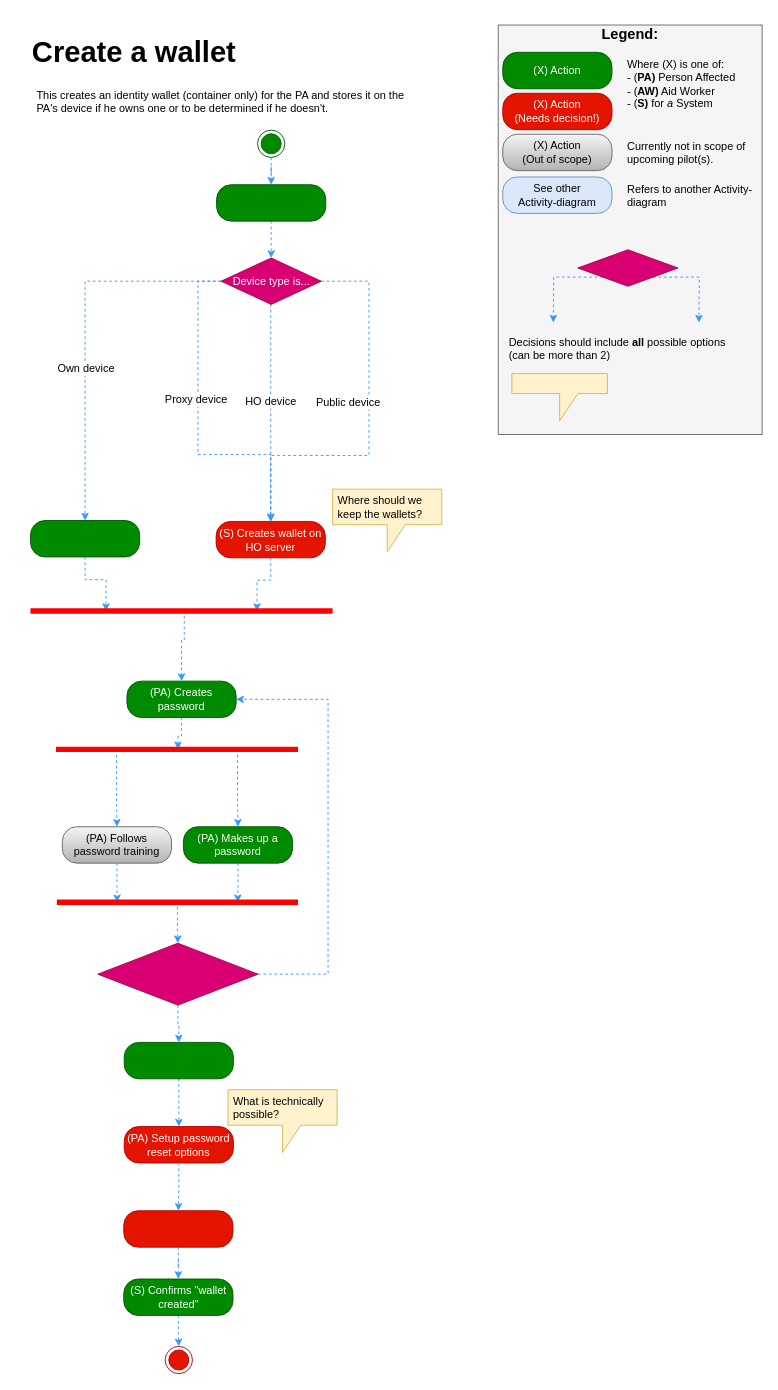
Some shapes in this 778 by 1390 pixel diagram are drawn without their labels. The shapes that lost their labels are listed below. From the top down, each one's box as (x1, y1, x2, y2) in pixels, then its label:
(216, 184, 326, 221): (S) Provide explanation of use
(577, 249, 678, 286): (X) Decision
(511, 373, 607, 421): Explanation
(30, 520, 140, 557): (S) Creates Wallet on device
(97, 942, 258, 1005): (PA) Confirms password/implications
(123, 1041, 233, 1079): (S) Encrypts Wallet with password
(123, 1210, 233, 1247): (PA) Setup wallet backup options
